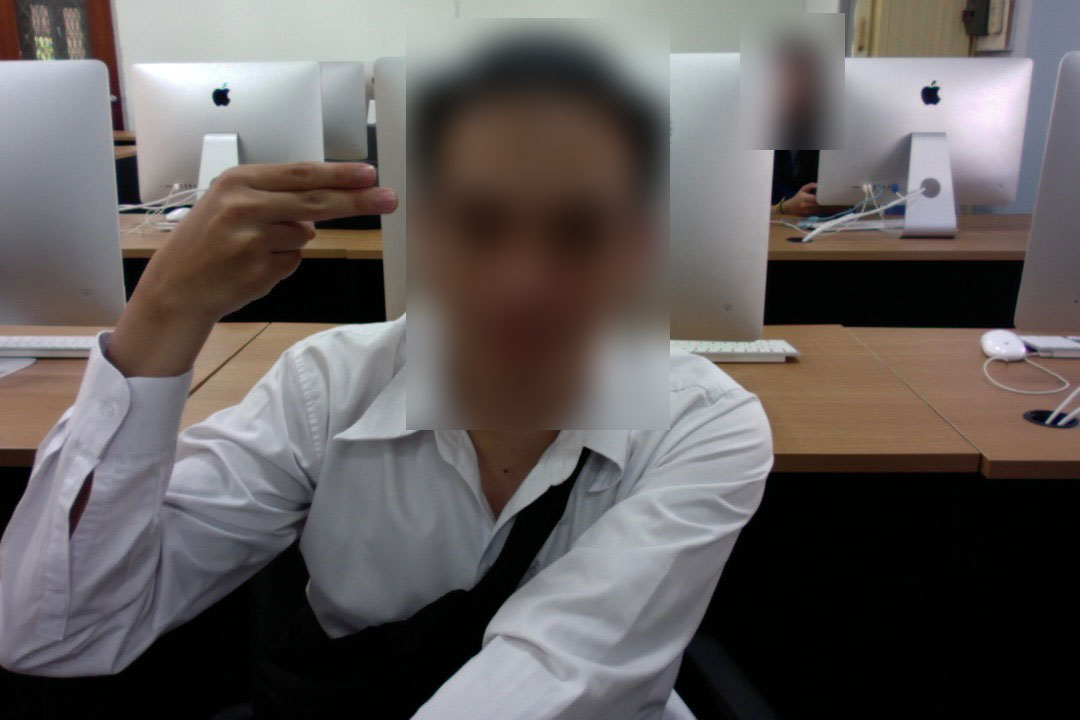hor: (137, 156, 408, 318)
